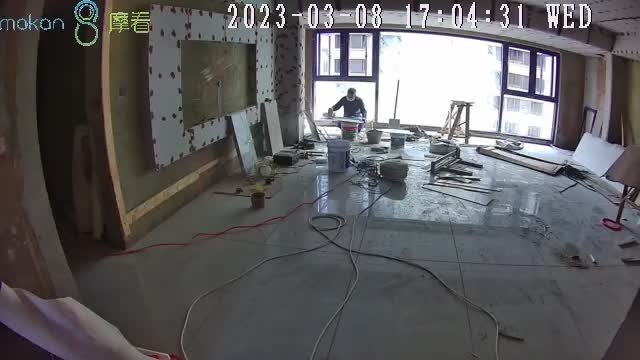people: (326, 88, 368, 134)
window: (314, 26, 557, 141)
